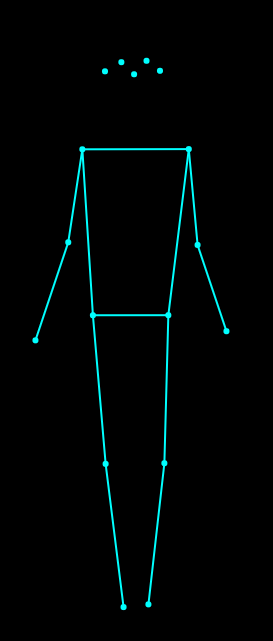mountain: (27, 47, 234, 616)
